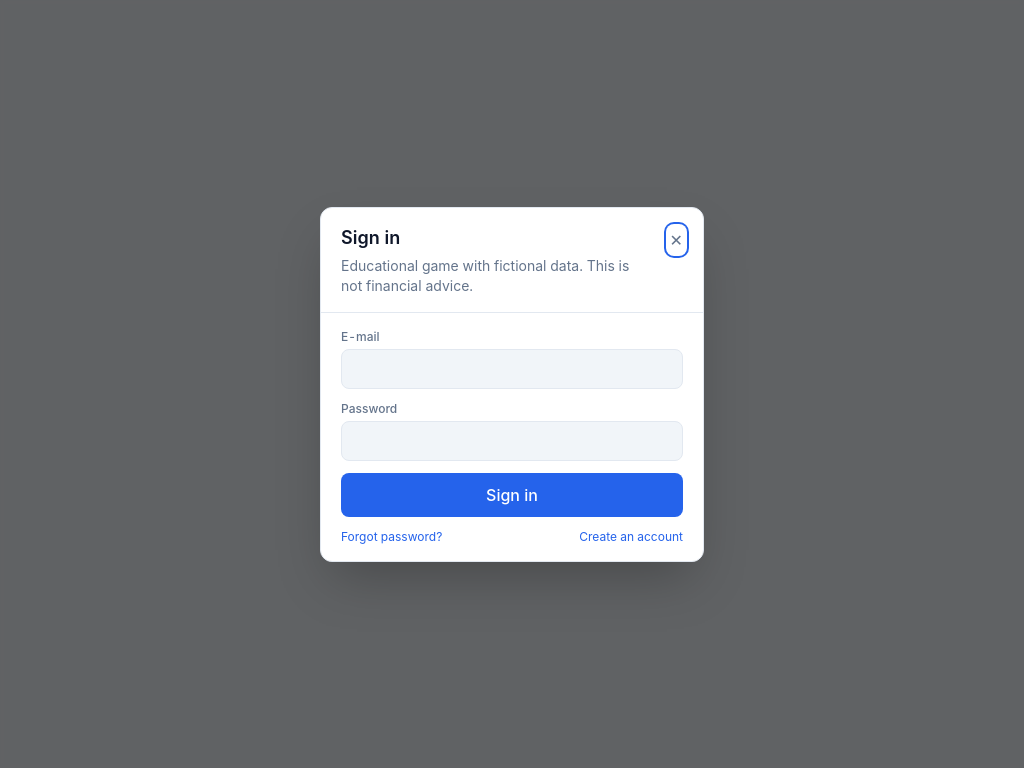
Test case: <AuthModal /> › shows translated server errors by code
Step 1. Type "a@b.test" into the field labelled "E-mail" → (512, 368), box [341,348,683,388]
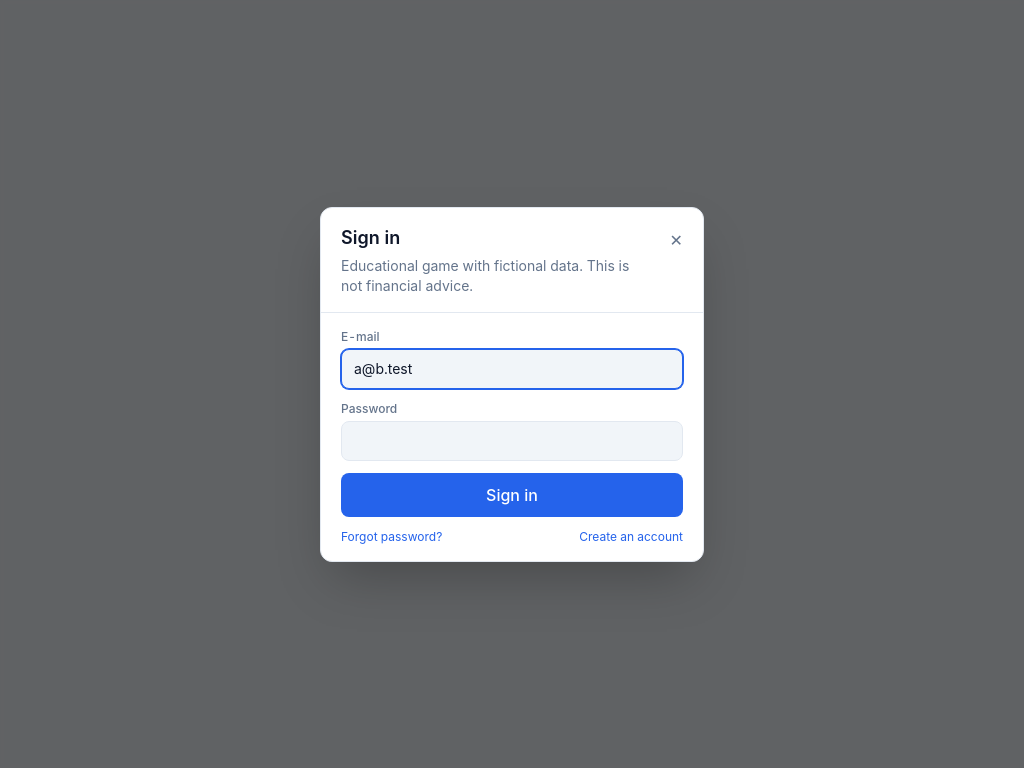
Step 2. Type "x" into the password field labelled "Password" → (512, 440), box [341,420,683,460]
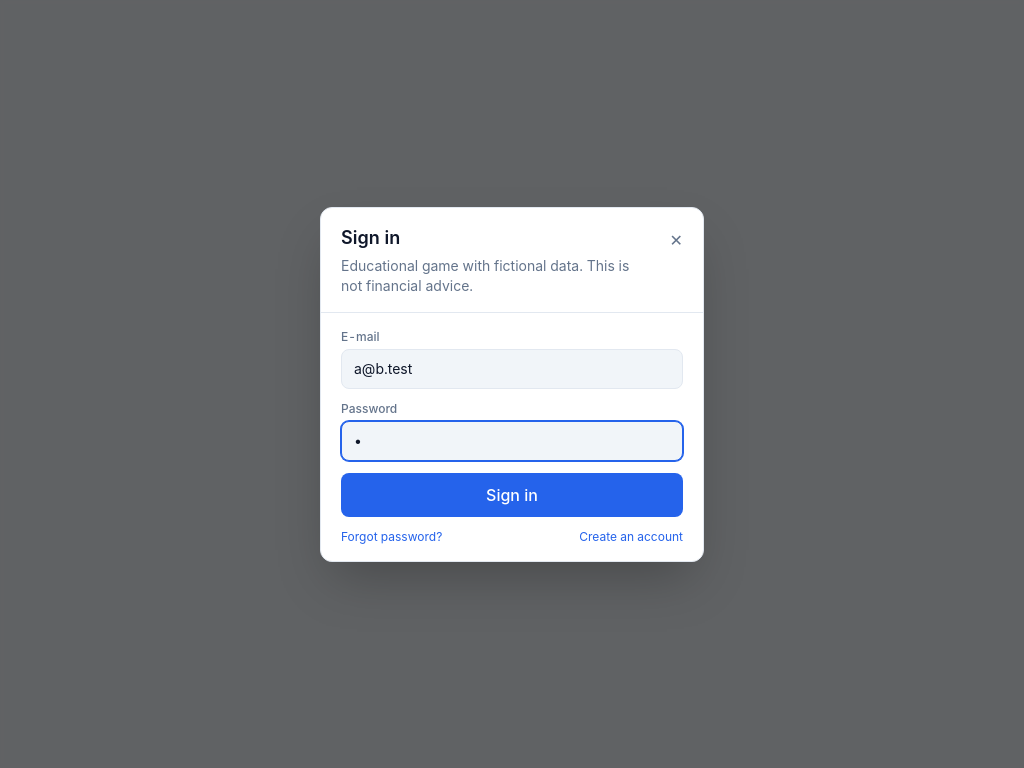
Step 3. Click the button "Sign in" → (512, 494), box [341,472,683,516]
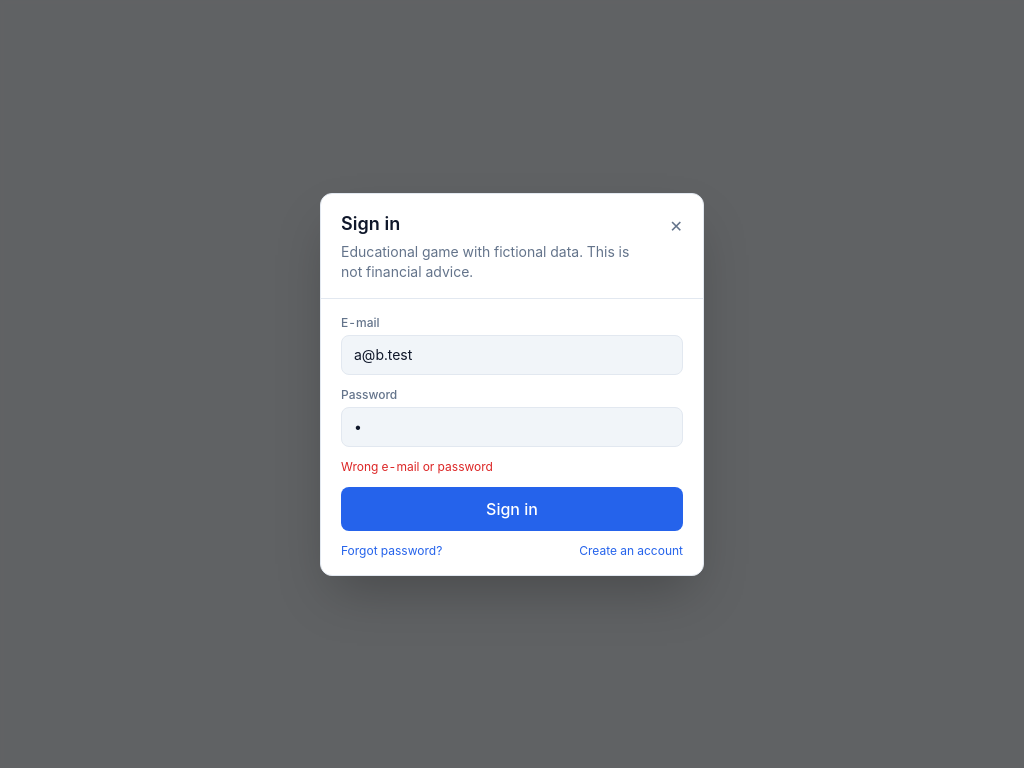
Now the message reads "Wrong e-mail or password", box [341,458,493,474]
